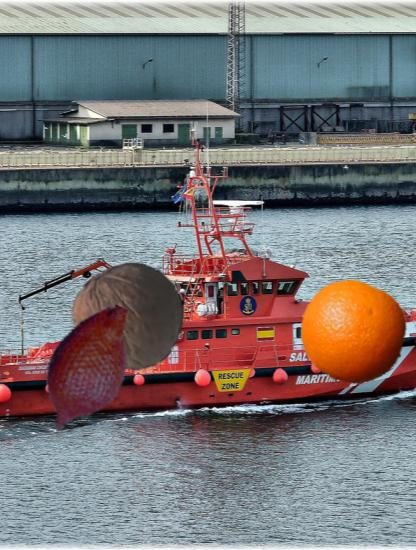Orange: (299, 279, 407, 387)
Salak: (19, 299, 158, 438)
Walnut: (75, 260, 186, 371)
